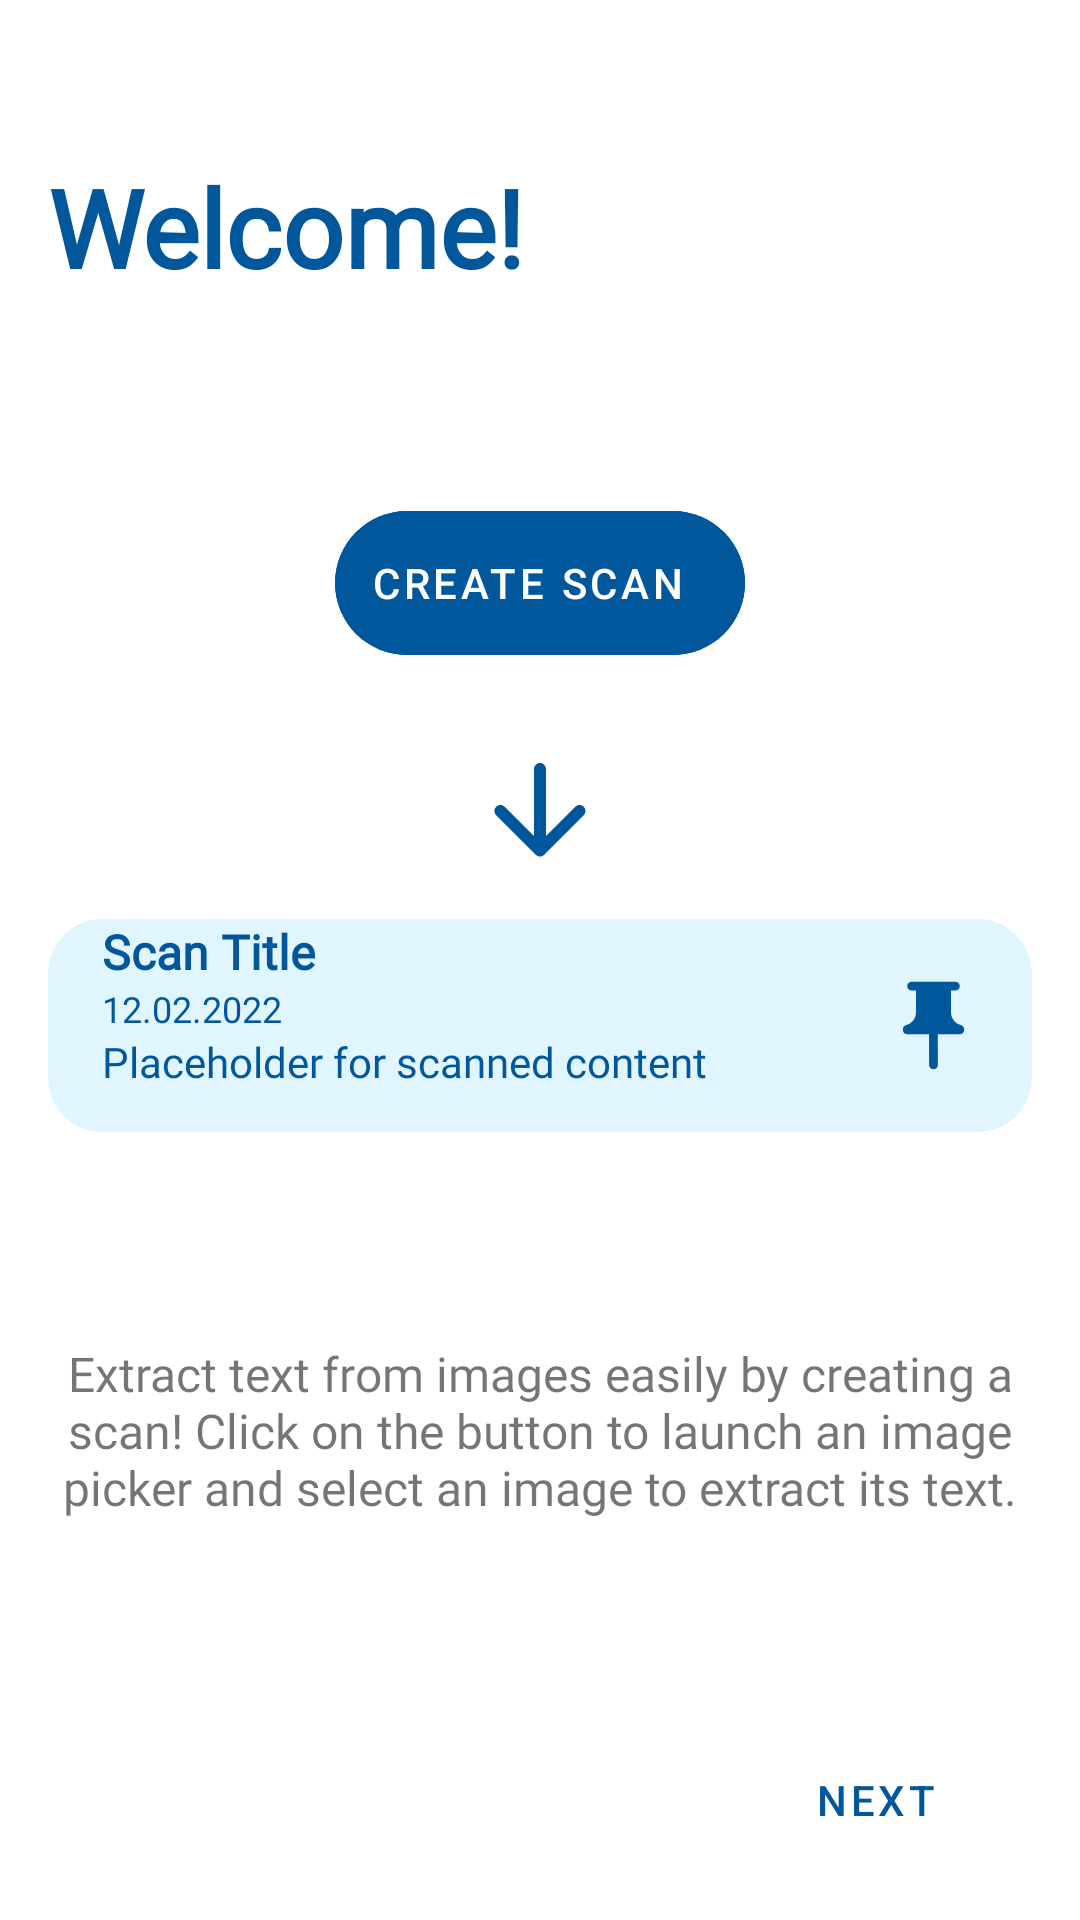

Icon click points for this 1080*1920 phone screenshot, format point (x, y):
arrow downward: point (540, 810)
push pin: point (933, 1025)
